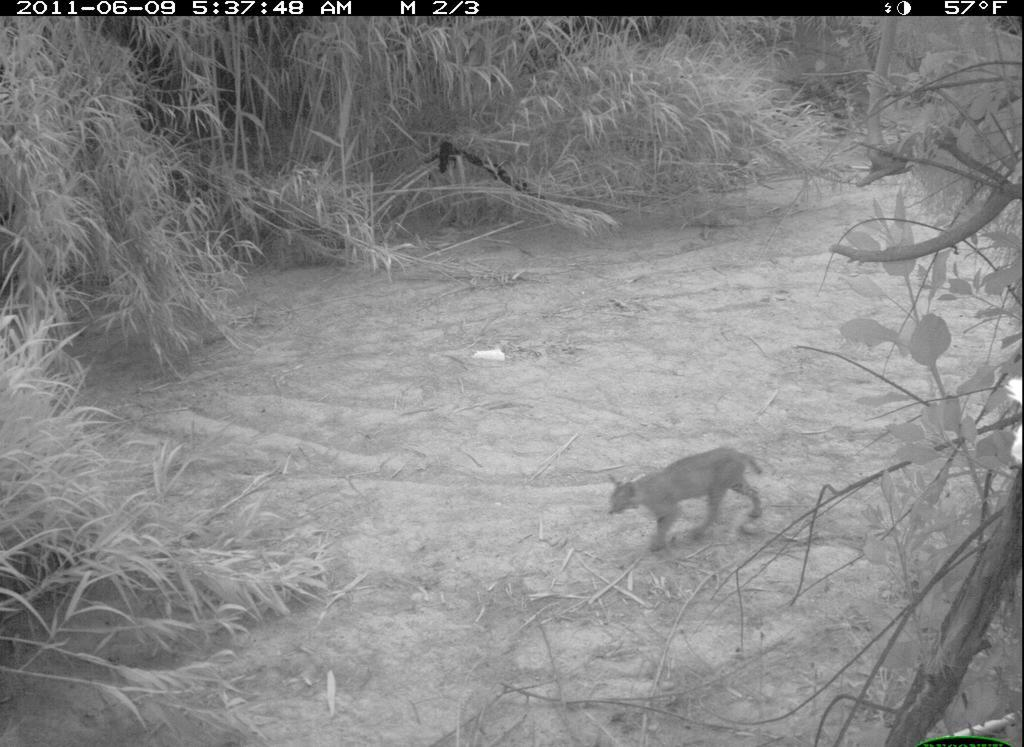bobcat: (595, 447, 782, 562)
